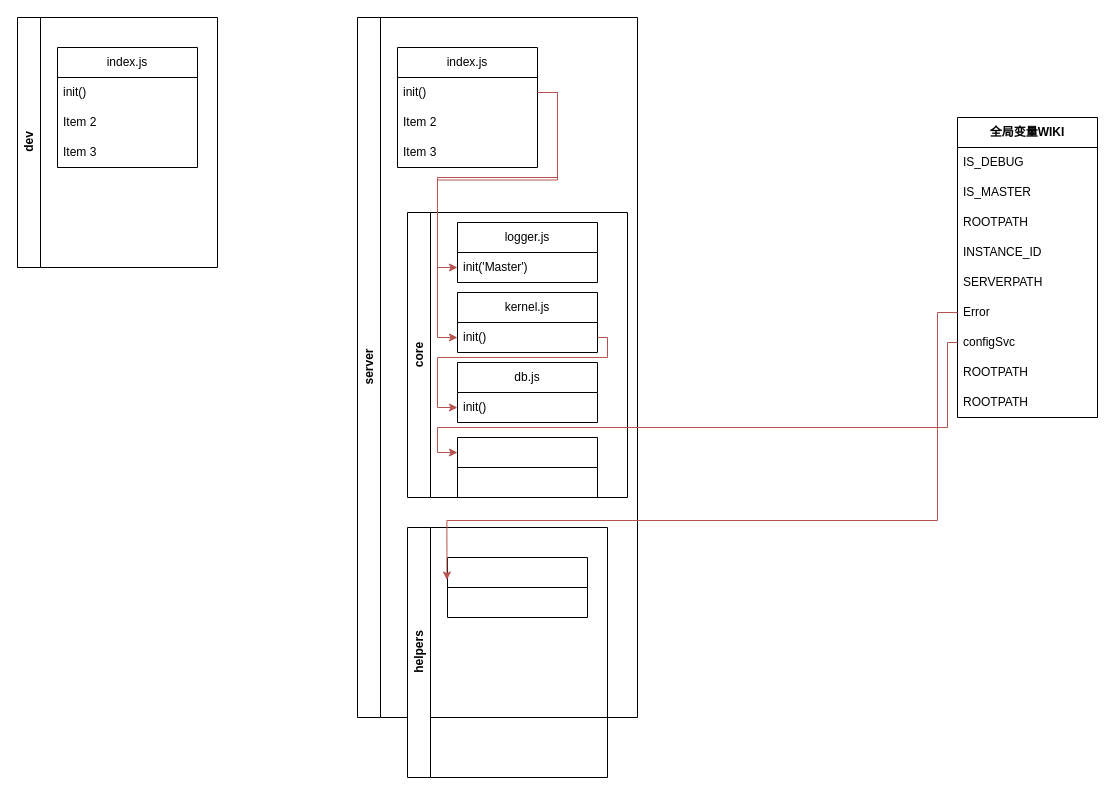
Image size: 1115x795. Some labels were removed from this diagram. Here are the shapes that lost their labels. From the top down, the centre of each, then its label:
the point at 527,467: config.js
the point at 517,587: error.js
